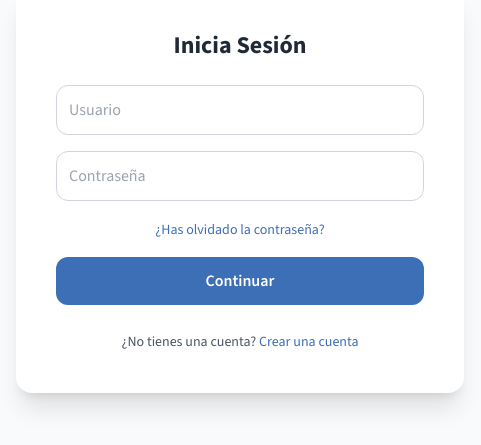
Test: Login page › shows backend error when login fails
Click the button "Continuar".
click(240, 281)  # box [56, 257, 424, 305]
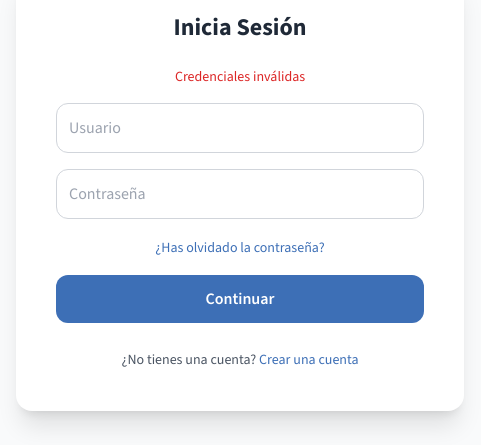
Expected: the text "Credenciales inválidas" is shown, [175, 67, 305, 86]
